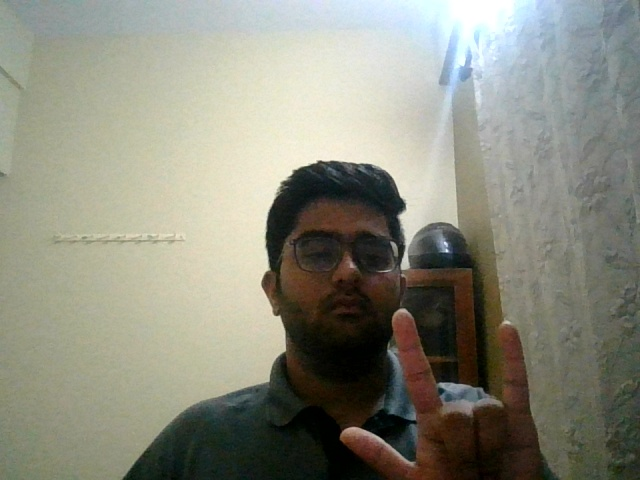I Love You: (323, 300, 580, 479)
